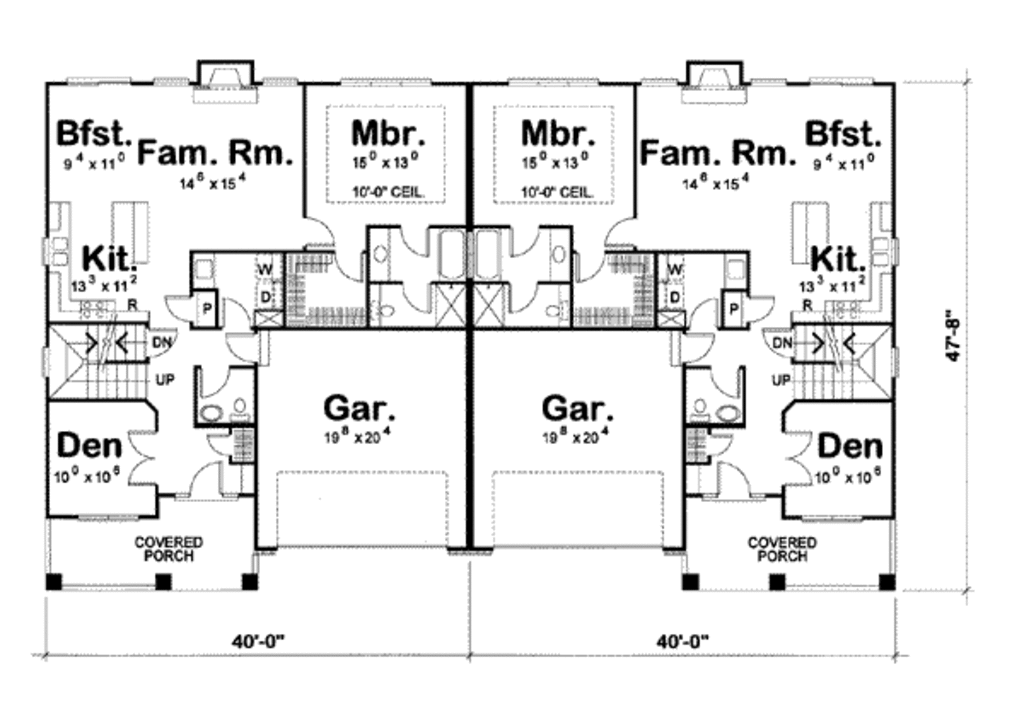door: (773, 422, 820, 486), (217, 322, 275, 370), (181, 459, 233, 503), (126, 424, 161, 489), (707, 459, 759, 499), (291, 210, 340, 252), (566, 247, 618, 286), (596, 208, 641, 250), (161, 288, 205, 330), (759, 318, 798, 363), (323, 245, 365, 285), (667, 330, 716, 364), (190, 358, 231, 398), (703, 366, 751, 400), (682, 296, 723, 334), (392, 222, 432, 260), (400, 281, 436, 318), (504, 278, 539, 316), (507, 220, 541, 259), (221, 294, 254, 334), (745, 293, 778, 330), (200, 430, 240, 460), (705, 430, 734, 457)
large_sink: (363, 291, 395, 326), (541, 290, 570, 326), (684, 394, 714, 426), (223, 395, 253, 422)
small_sink: (546, 225, 566, 277), (715, 397, 745, 430), (188, 398, 226, 423)
stairs: (787, 322, 896, 400), (50, 327, 148, 397)
twin_sink: (34, 234, 81, 273), (867, 236, 898, 271)
window: (336, 69, 432, 96), (500, 66, 608, 90), (62, 71, 139, 90), (804, 70, 877, 90), (70, 509, 149, 527), (255, 66, 307, 90), (629, 72, 676, 95), (801, 510, 861, 526), (744, 73, 791, 90)
